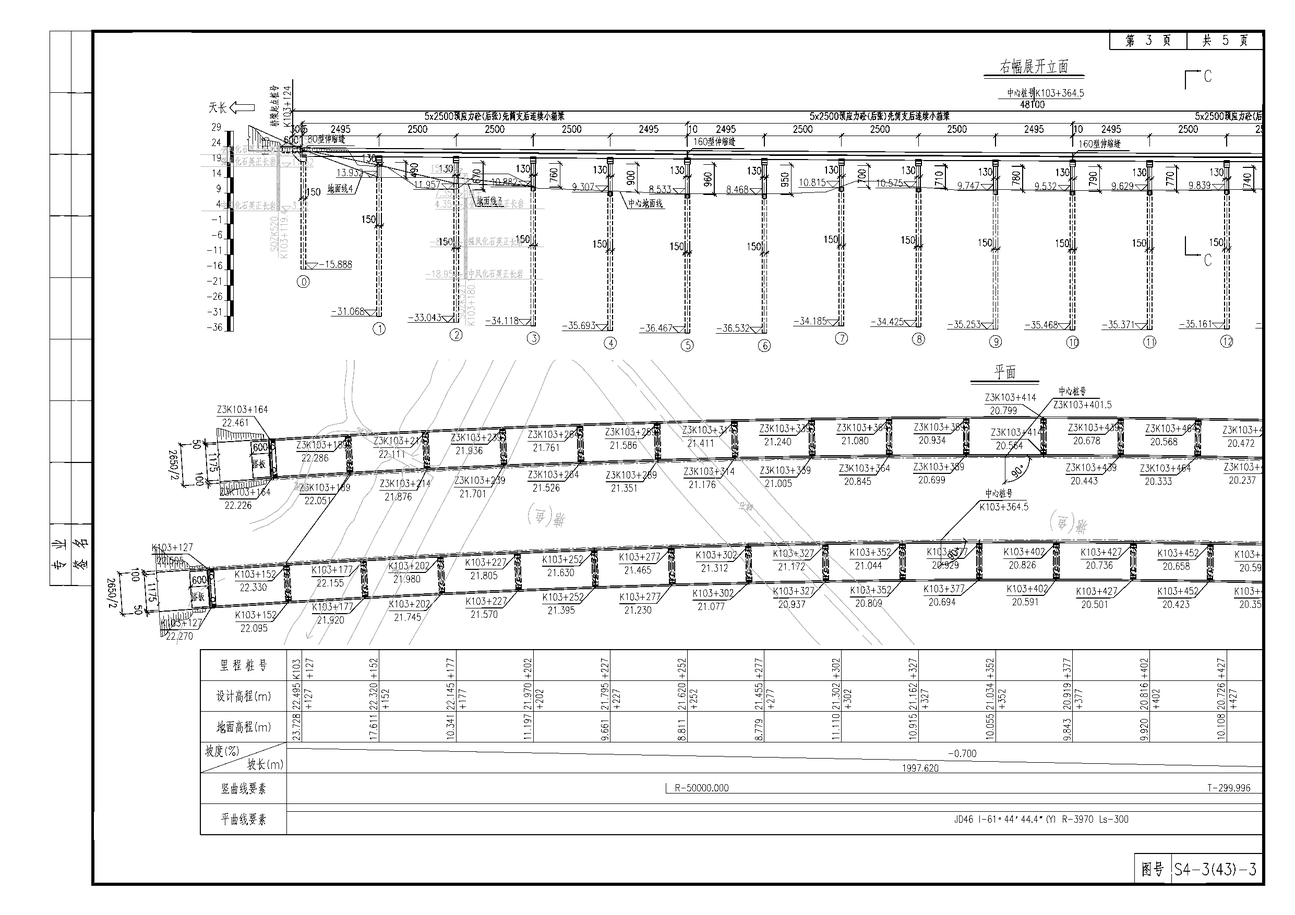A: (184, 52, 1266, 361)
